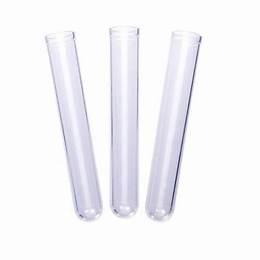Test tube: (40, 29, 210, 228)
